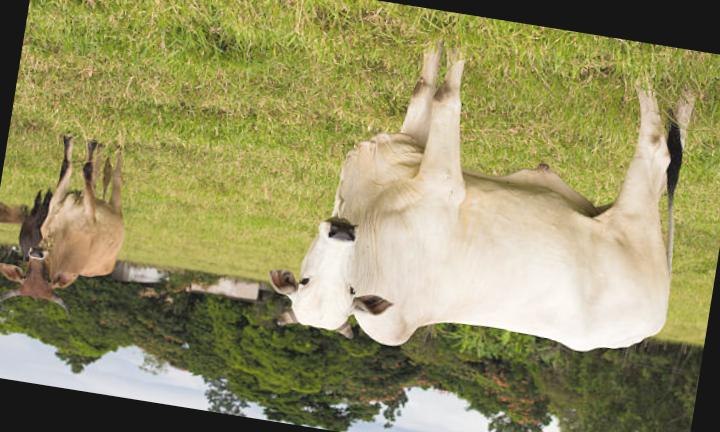Brahman: (271, 51, 686, 350), (0, 137, 125, 311)
